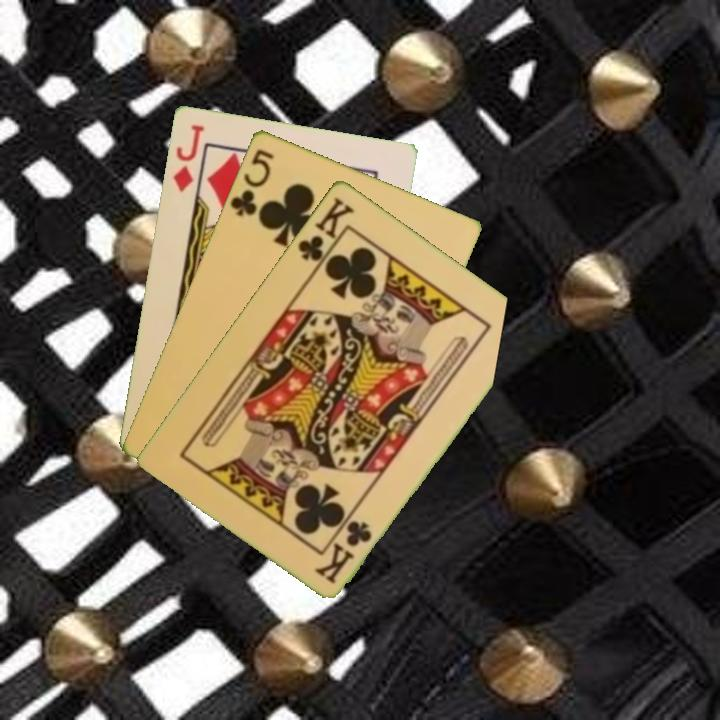5c: (226, 145, 276, 219)
Jd: (169, 120, 206, 195)
Kc: (294, 192, 357, 273), (313, 516, 375, 586)
